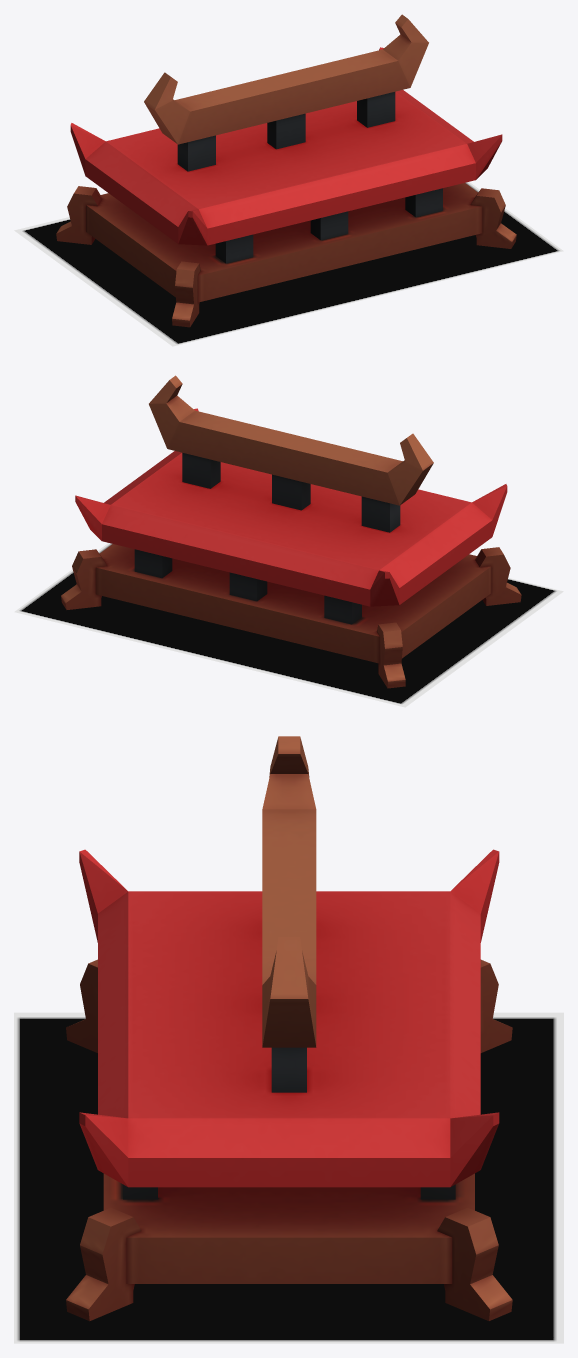
File: 3x2_altar.FBX
3 renders of one model, top to bottom at view 1: azimuth 30°, elevation 25°; view 2: azimuth 150°, elevation 25°; view 3: azimuth 270°, elevation 25°, orthographic. The views are drawn at different scales.
Visible parts, largest first — view 1: 3x2_altar, 3x2_altar_soft_shadow; view 2: 3x2_altar, 3x2_altar_soft_shadow; view 3: 3x2_altar, 3x2_altar_soft_shadow.
Part boxes in pixels (bbox=[...]): 3x2_altar: bbox=[56, 14, 516, 327]; 3x2_altar_soft_shadow: bbox=[14, 182, 563, 346]; 3x2_altar: bbox=[61, 375, 521, 688]; 3x2_altar_soft_shadow: bbox=[14, 543, 563, 707]; 3x2_altar: bbox=[66, 736, 512, 1321]; 3x2_altar_soft_shadow: bbox=[14, 1012, 563, 1343].
Size of the model in its own units: 3221 by 1552 by 2262.
